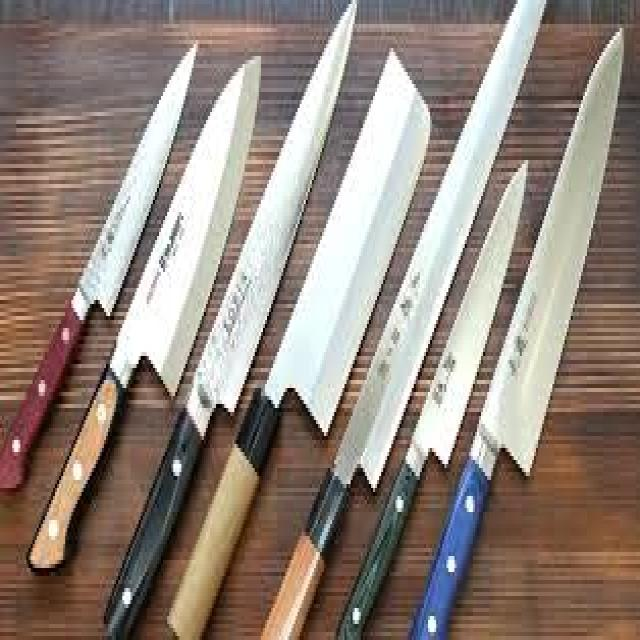Knife: (163, 44, 430, 636), (406, 24, 624, 636), (24, 52, 261, 572), (332, 156, 530, 636)
